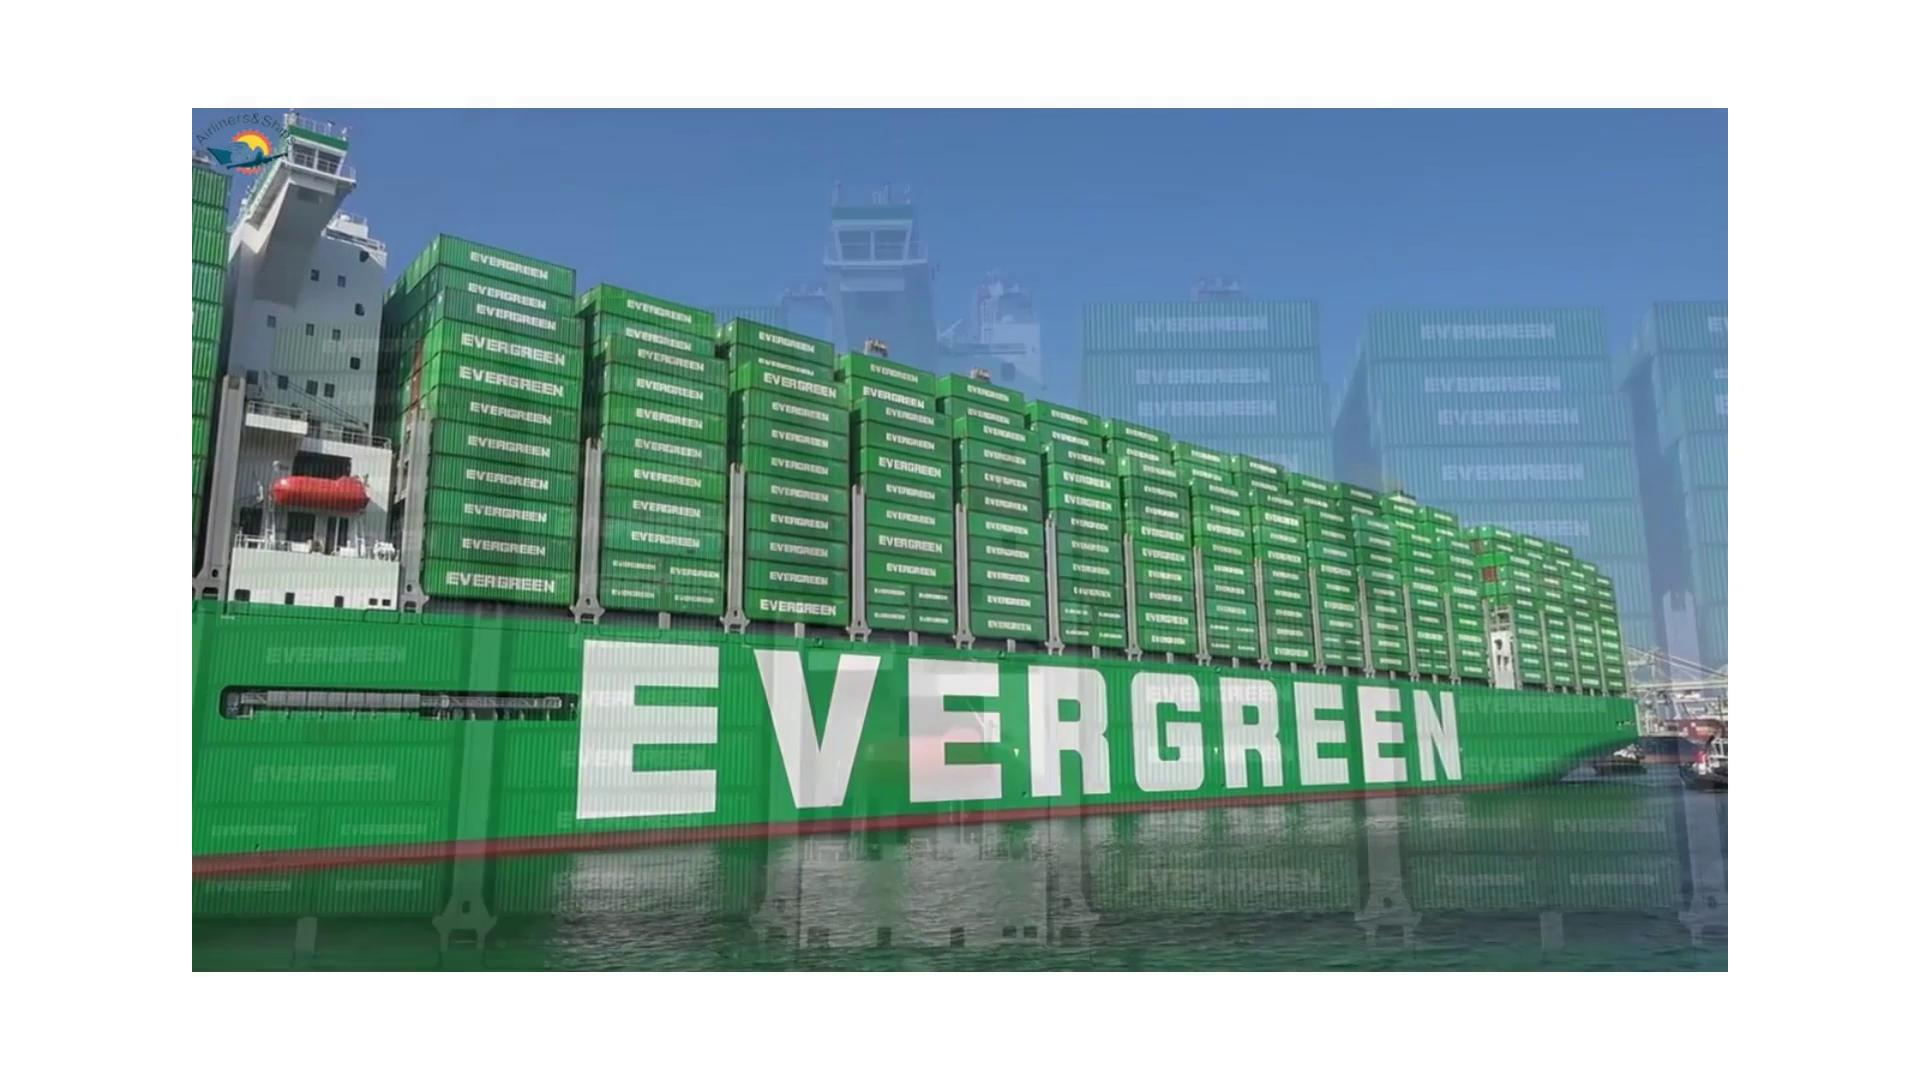OCR: (575, 640, 1493, 848)
